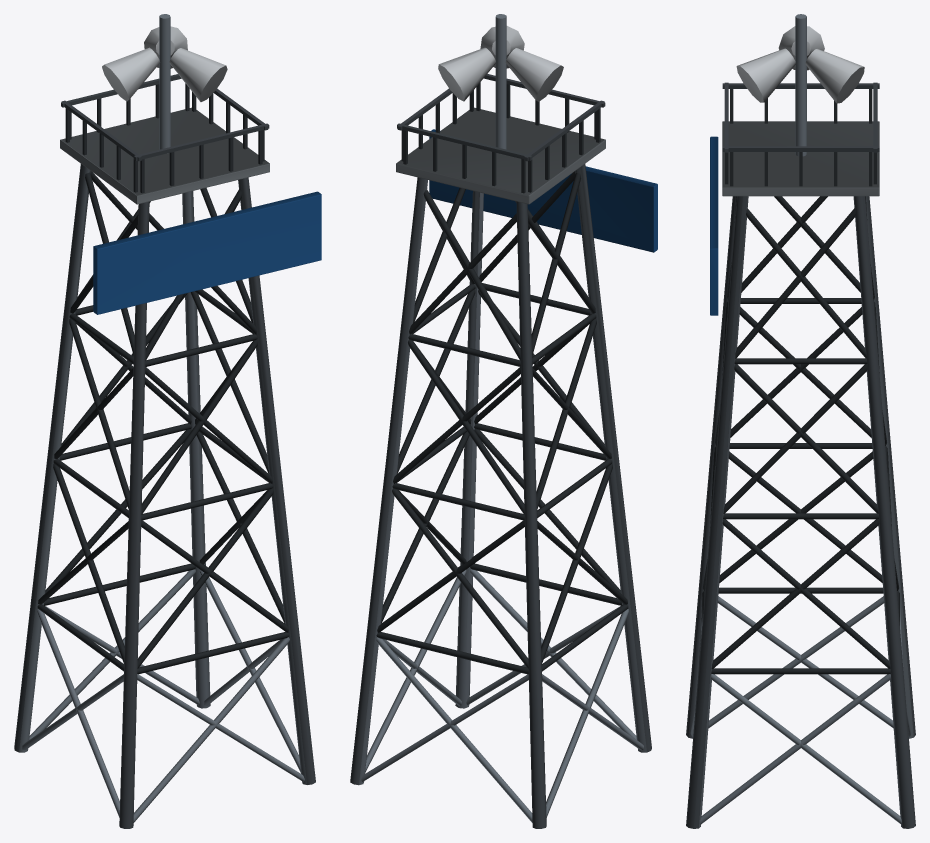
The model's file is tower.glb.
The picture shows the model from 3 angles, left to right: view 1: azimuth 30°, elevation 25°; view 2: azimuth 150°, elevation 25°; view 3: azimuth 270°, elevation 25°; orthographic projection.
Visible parts, largest first — view 1: tower; view 2: tower; view 3: tower.
Boxes of the visible parts, x1=… form: tower: x1=14, y1=14, x2=321, y2=828; tower: x1=350, y1=14, x2=657, y2=828; tower: x1=686, y1=14, x2=915, y2=828.
Size of the model in its own units: 3.2 by 10.23 by 2.78.
